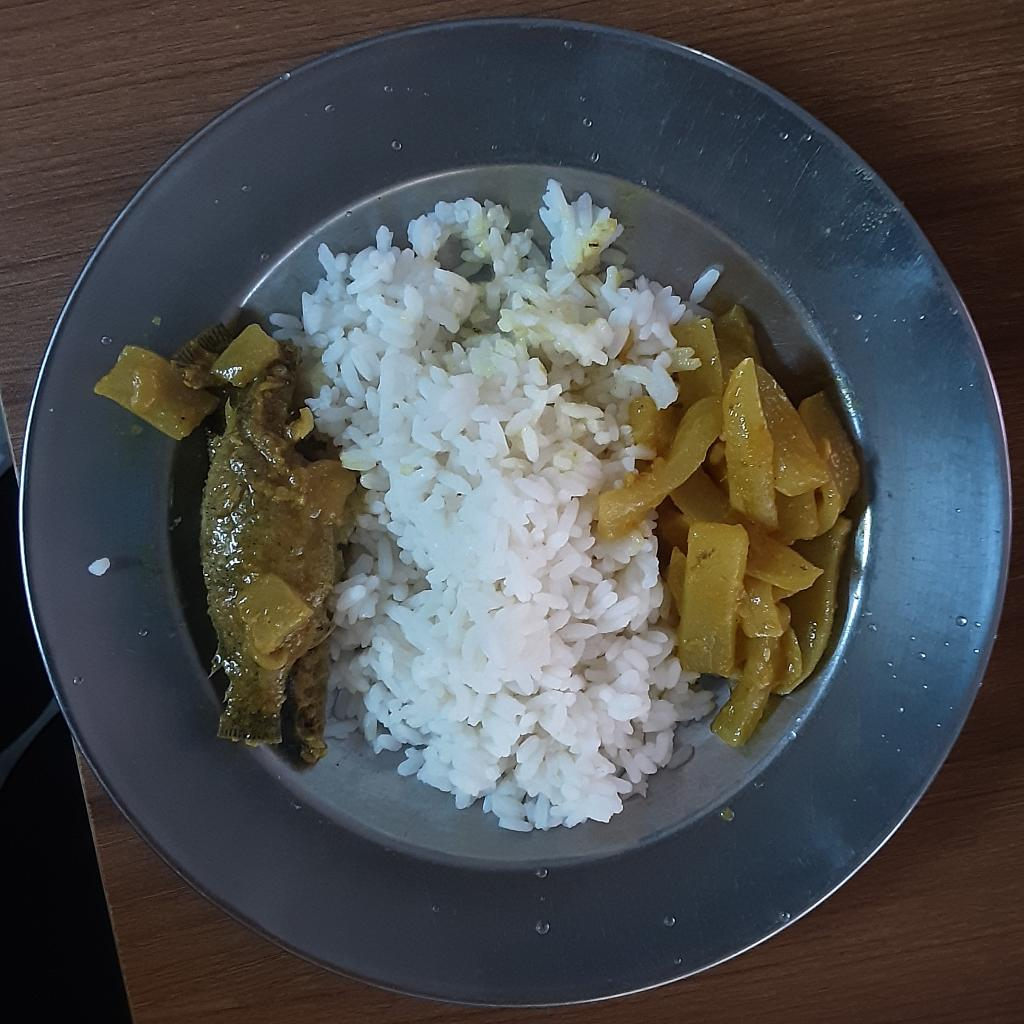fish: (199, 363, 359, 766)
lau: (598, 303, 869, 743), (94, 324, 290, 440)
rice: (270, 180, 731, 831)
